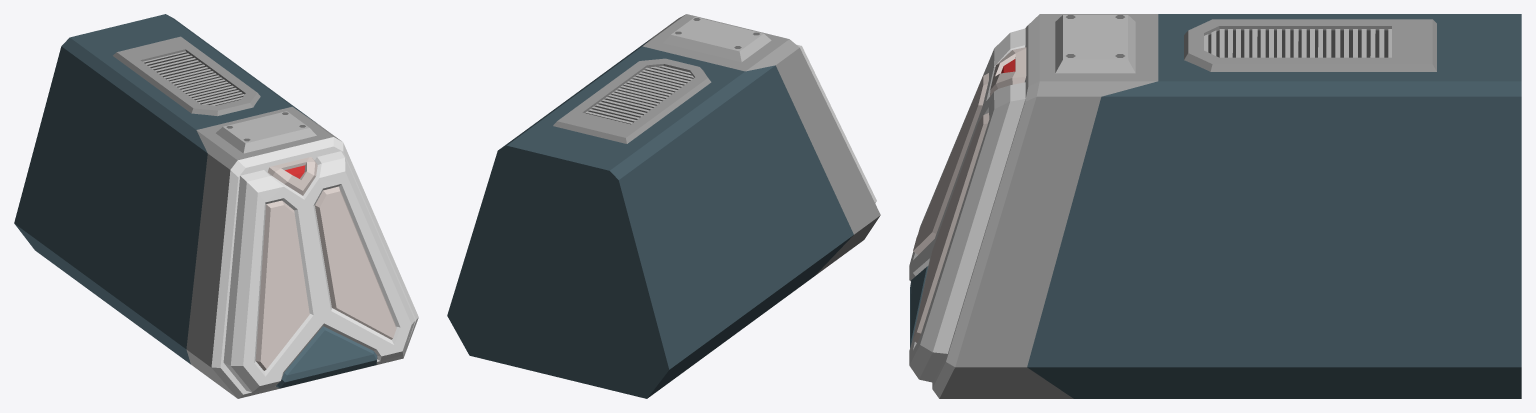
File: door_004.fbx
3 views of the same model, side by side, from view 1: azimuth 30°, elevation 25°; view 2: azimuth 150°, elevation 25°; view 3: azimuth 270°, elevation 25° (orthographic). The views are drawn at different scales.
Visible parts, largest first — view 1: door_004; view 2: door_004; view 3: door_004.
Part boxes in pixels (x1,y1,x2,y2): door_004: (14, 14, 418, 398); door_004: (447, 14, 880, 398); door_004: (909, 14, 1521, 398).
Bounding box in the file's own units: 350 × 624 × 343.
